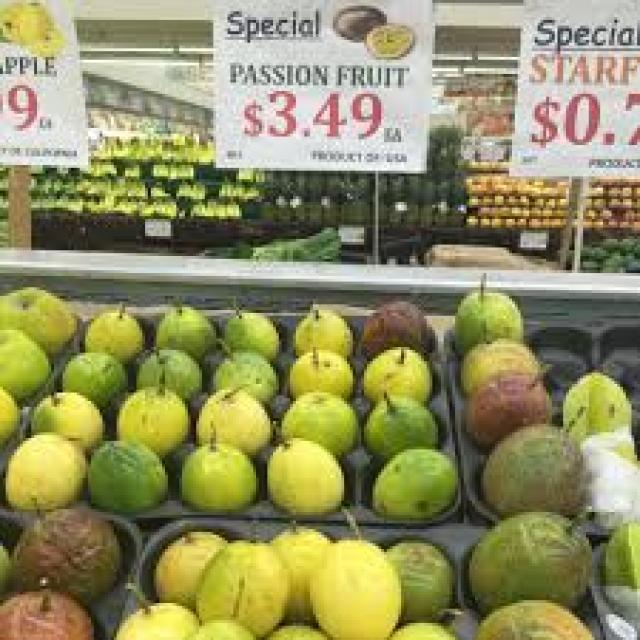Organik: (4, 286, 457, 523), (460, 281, 580, 640), (137, 529, 452, 640), (0, 503, 128, 640)
